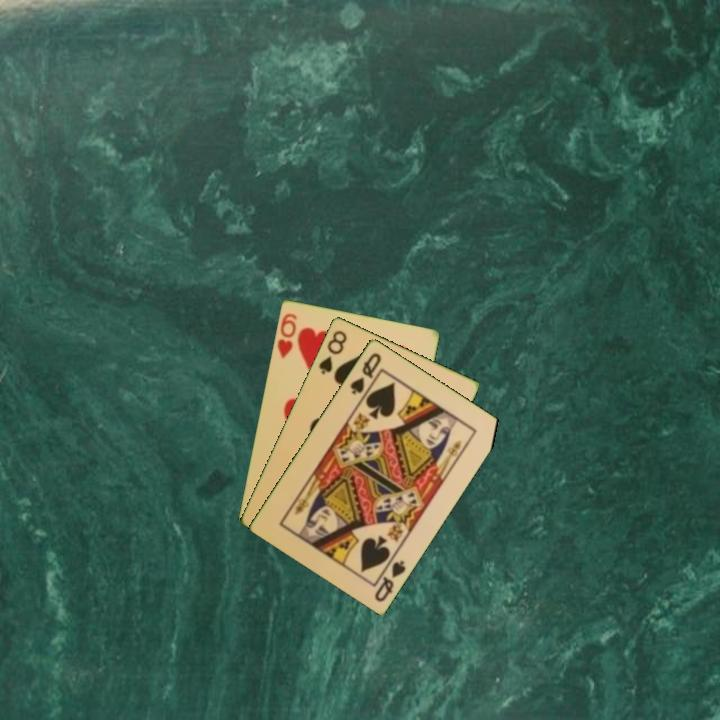6h: (274, 309, 300, 361)
8s: (315, 326, 350, 377)
Qs: (371, 551, 409, 604), (346, 349, 384, 397)
